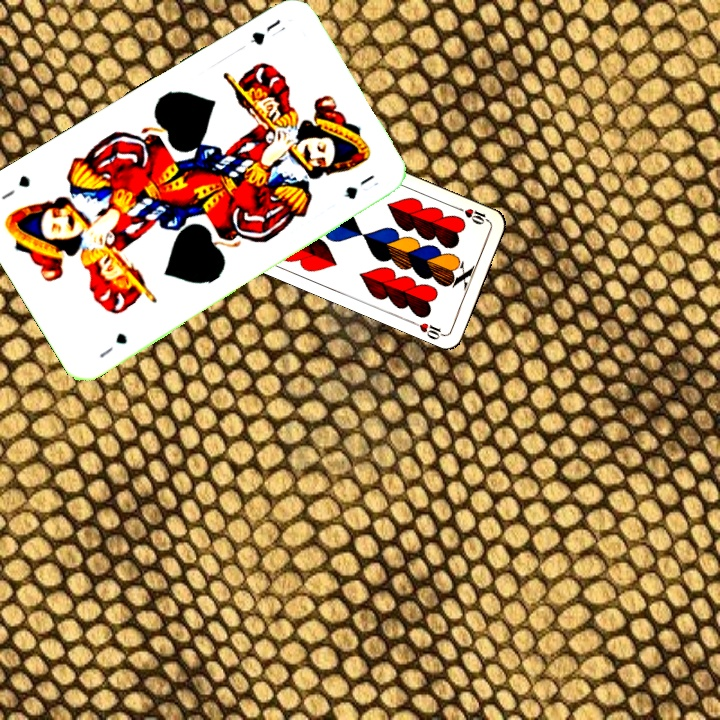GU: (246, 15, 289, 48), (95, 329, 130, 361)
H10: (454, 204, 493, 227)
